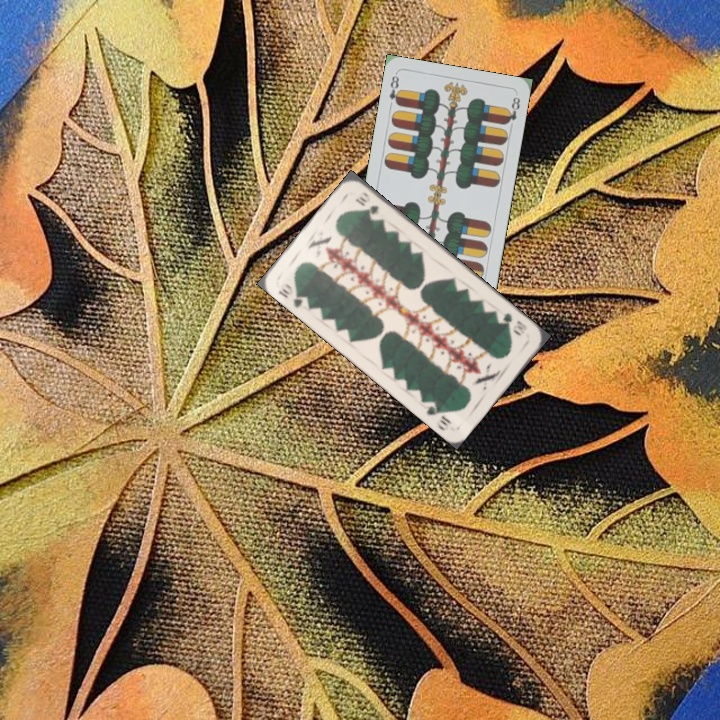E8: (385, 72, 404, 108)
G10: (274, 280, 311, 310), (499, 309, 530, 339)
